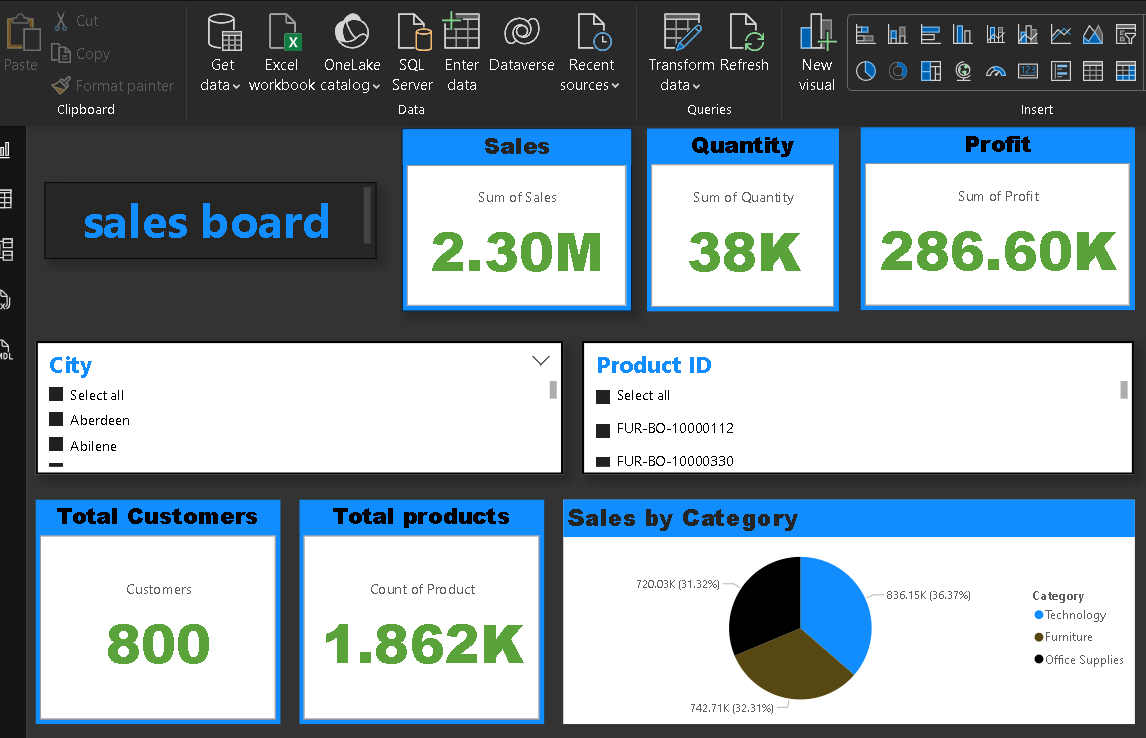

This screenshot's page, from the dashboard's own definition file:
{"tool":"powerbi","page":{"name":"Page 1","canvas":[1280,720],"ordinal":0},"visuals":[{"type":"textbox","box":[20,63.8,377.5,87.5],"z":0},{"type":"slicer","fields":{"Values":["Sales Overview Data xlsx - Sales Data.City"]},"box":[10,245,600,151.7],"z":1000},{"type":"cardVisual","title":"Sales","fields":{"Data":["Sum(Sales Overview Data xlsx - Sales Data.Sales)"]},"box":[426.7,3.3,261.7,208.3],"z":2000},{"type":"cardVisual","title":"Profit","fields":{"Data":["Sum(Sales Overview Data xlsx - Sales Data.Profit)"]},"box":[948.3,1.7,311.7,208.3],"z":3000},{"type":"slicer","fields":{"Values":["Sales Overview Data xlsx - Sales Data.Product ID"]},"box":[631.7,245,628.3,151.7],"z":4000},{"type":"cardVisual","title":"Quantity","fields":{"Data":["Sum(Sales Overview Data xlsx - Sales Data.Quantity)"]},"box":[705,3.3,218.3,208.3],"z":5000},{"type":"cardVisual","title":"Total Customers","fields":{"Data":["Count(Sales Overview Data xlsx - Sales Data.Customer ID)"]},"box":[10,425,278.8,255],"z":6000},{"type":"pieChart","fields":{"Y":["Sum(Sales Overview Data xlsx - Sales Data.Sales)"],"Category":["Sales Overview Data xlsx - Sales Data.Category"]},"box":[610,425,650,255],"z":7000},{"type":"cardVisual","title":"Total products","fields":{"Data":["Count(Sales Overview Data xlsx - Sales Data.Product ID)"]},"box":[310,425,278.8,255],"z":8000}]}

Visuals, with their boxes in screenshot pixels (x1, y1, x2, y2):
textbox: box(39, 176, 372, 253)
slicer - Sales Overview Data xlsx - Sales Data.City: box(30, 336, 559, 470)
"Sales" cardVisual: box(398, 122, 629, 306)
"Profit" cardVisual: box(858, 121, 1133, 305)
slicer - Sales Overview Data xlsx - Sales Data.Product ID: box(579, 336, 1133, 470)
"Quantity" cardVisual: box(643, 122, 836, 306)
"Total Customers" cardVisual: box(30, 495, 276, 720)
pieChart - Sum(Sales Overview Data xlsx - Sales Data.Sales) x Sales Overview Data xlsx - Sales Data.Category: box(559, 495, 1133, 720)
"Total products" cardVisual: box(295, 495, 541, 720)
